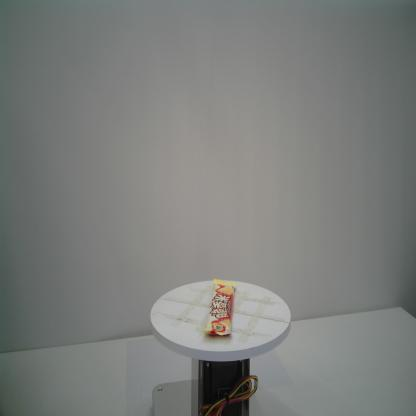Chocolate: (202, 277, 238, 337)
